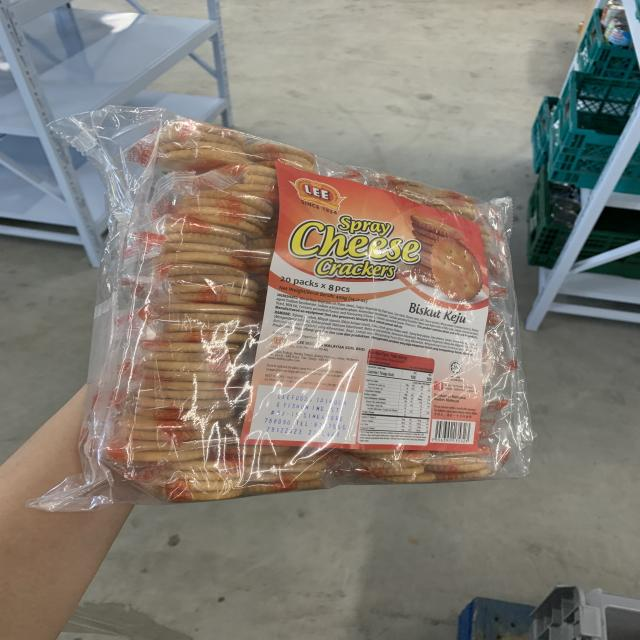object_name: (129, 139, 510, 483)
